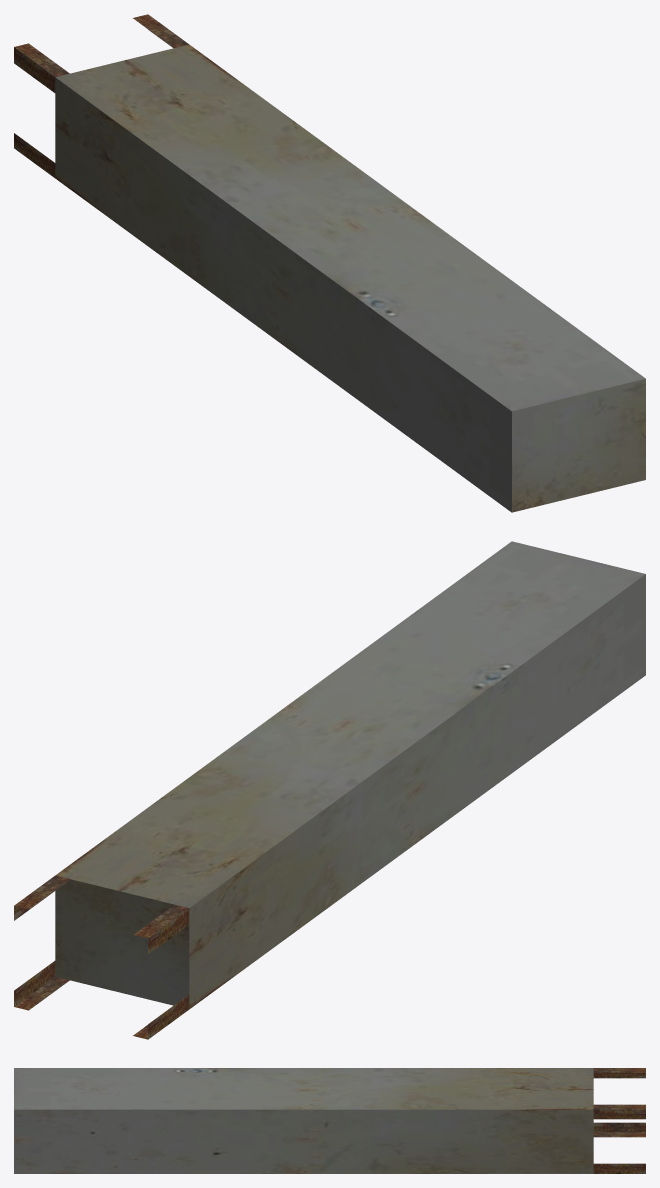
The model's file is prop_bunkerlocker_single.glb.
3 renders of one model, top to bottom at view 1: azimuth 30°, elevation 25°; view 2: azimuth 150°, elevation 25°; view 3: azimuth 270°, elevation 25°, orthographic. The views are drawn at different scales.
Size of the model in its own units: 12.1 by 8.73 by 77.78.
Materials: 1 (1 with a texture image).
